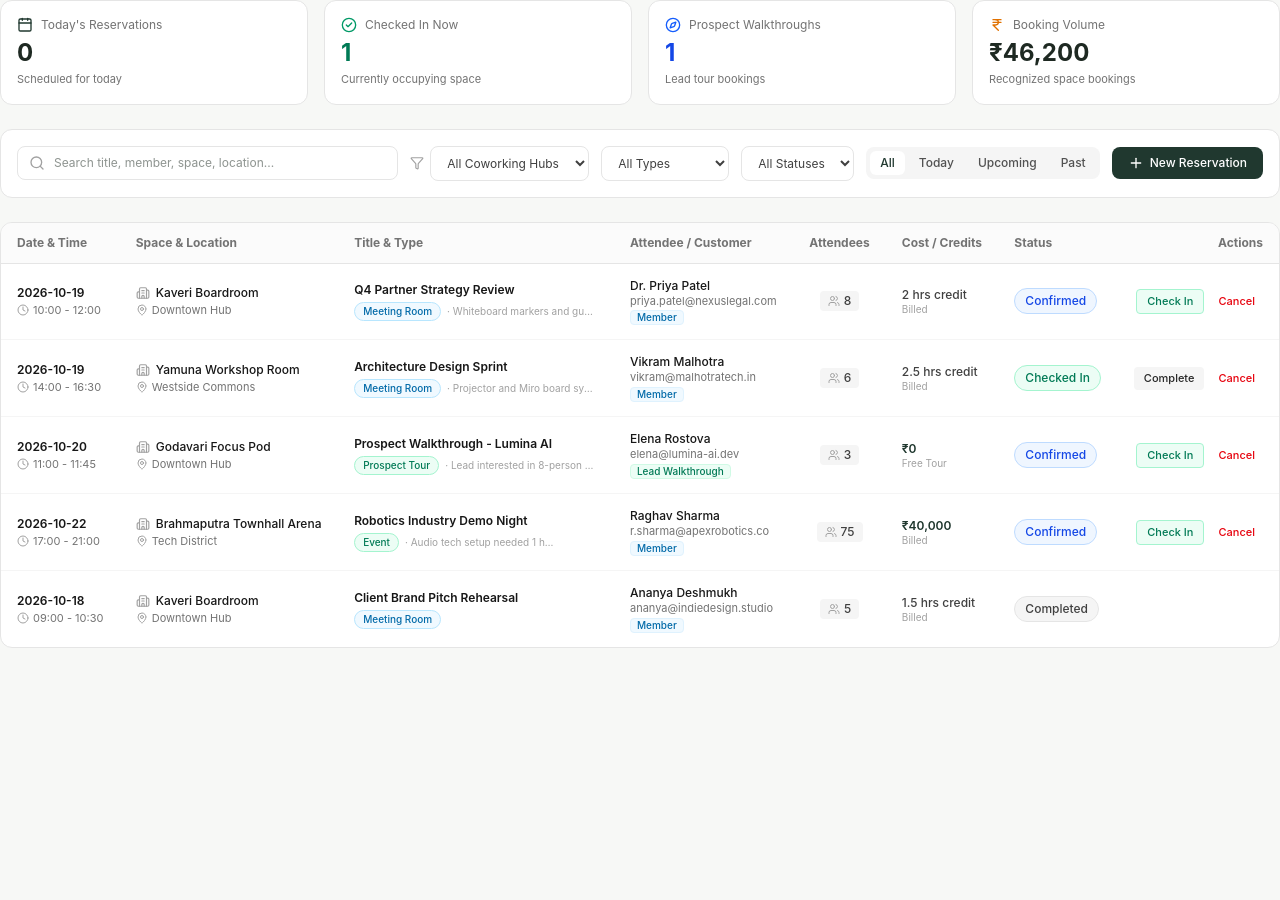
Test case: BookingsDirectory Component › filters bookings based on search query
In the field with placeholder "Search title, member, space, location...": (208, 163) [17,146,398,180], type "Robotics"
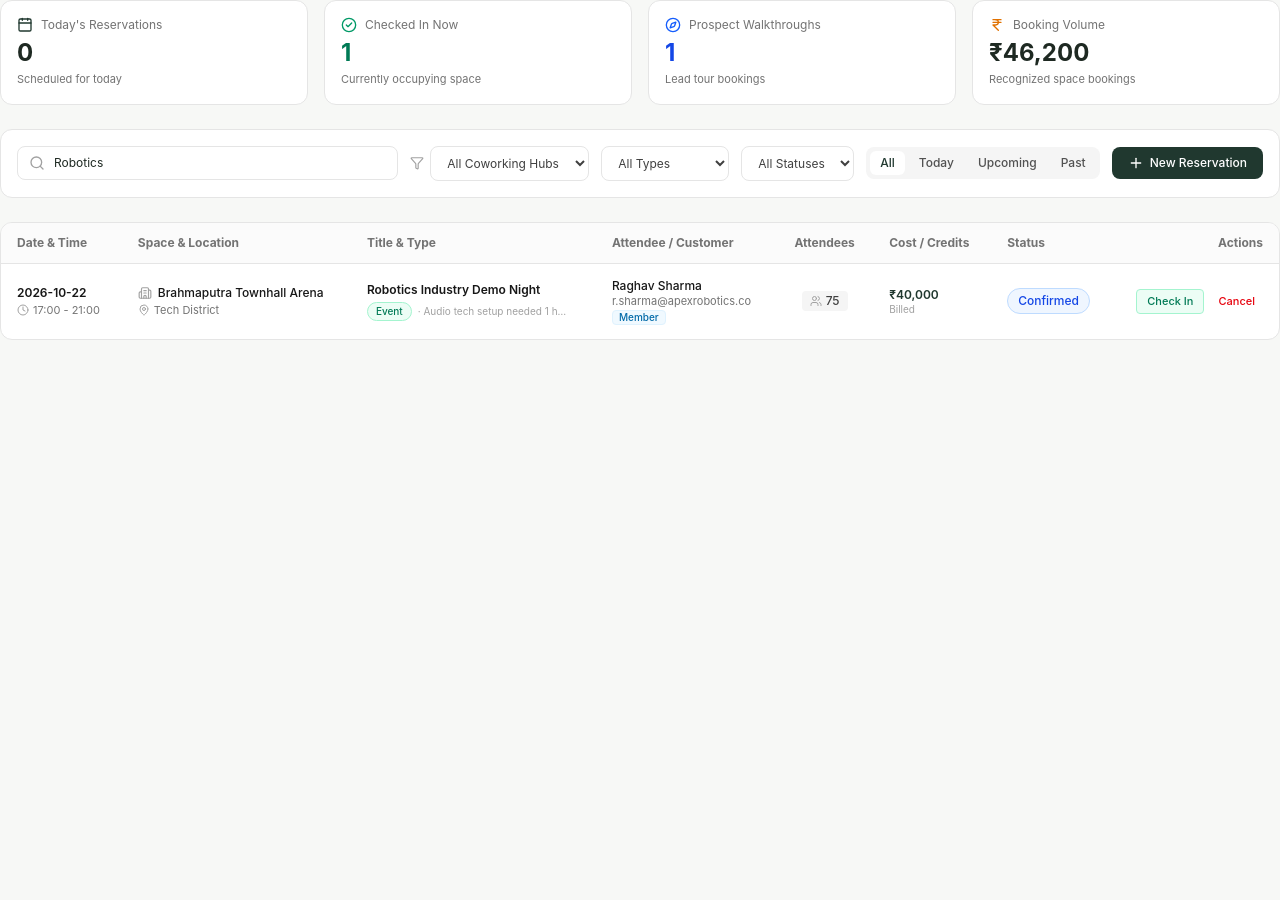
Check: the text "Robotics Industry Demo Night" is shown, box [367,282,540,297]
Check: the text "Q4 Partner Strategy Review" is gone
